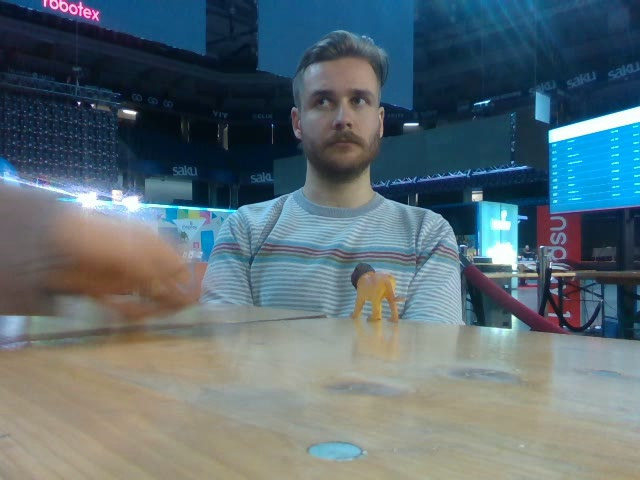toy: (351, 262, 407, 323)
